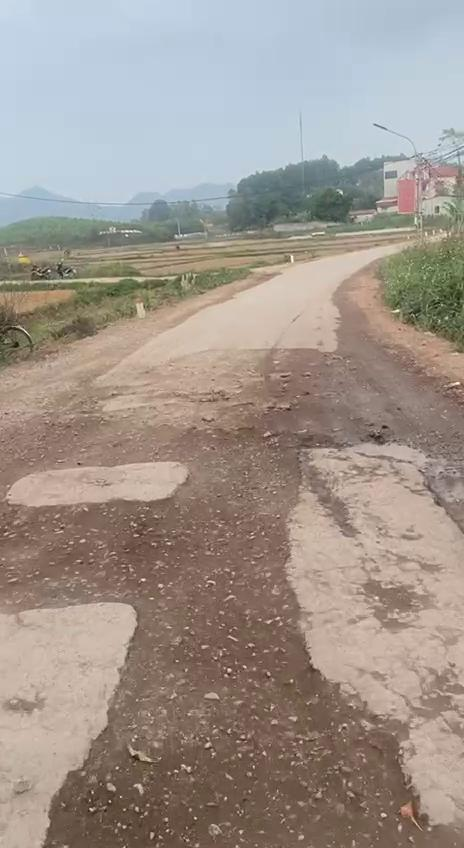pothole: (46, 598, 426, 848)
